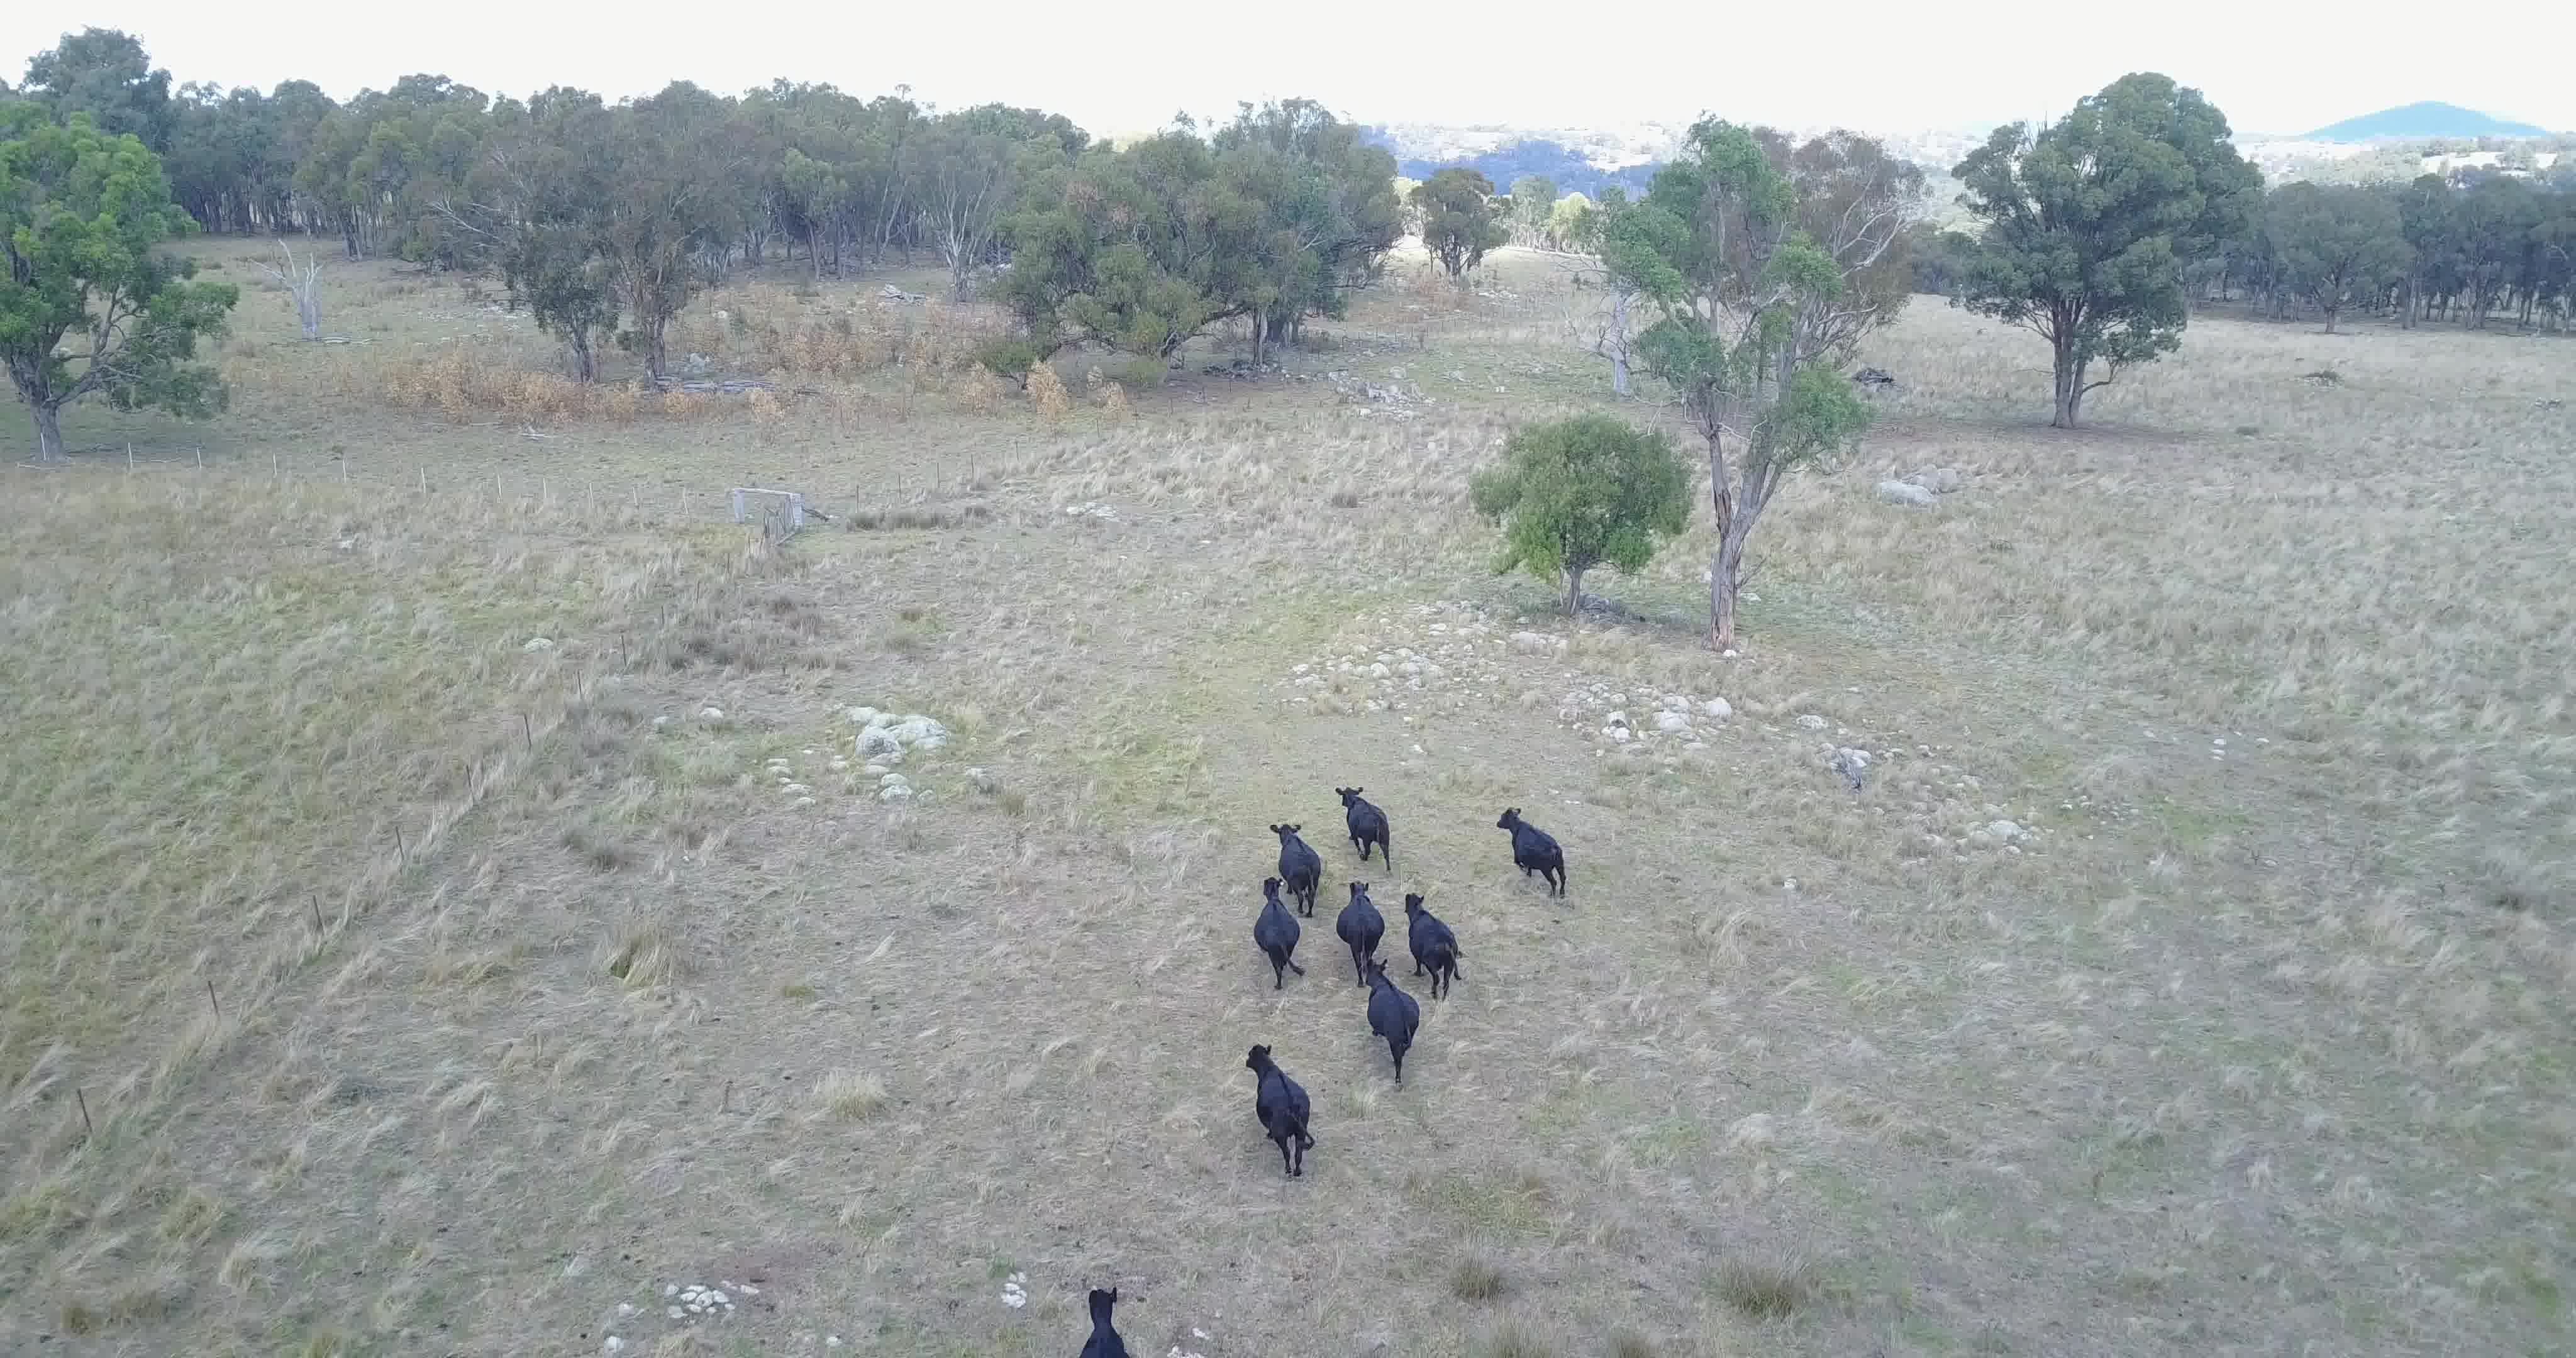cattle: (1240, 1036, 1319, 1181), (1354, 959, 1421, 1097), (1400, 889, 1469, 1007), (1492, 804, 1571, 906), (1249, 876, 1310, 995), (1327, 782, 1402, 871), (1268, 821, 1331, 918), (1060, 1283, 1135, 1358)
